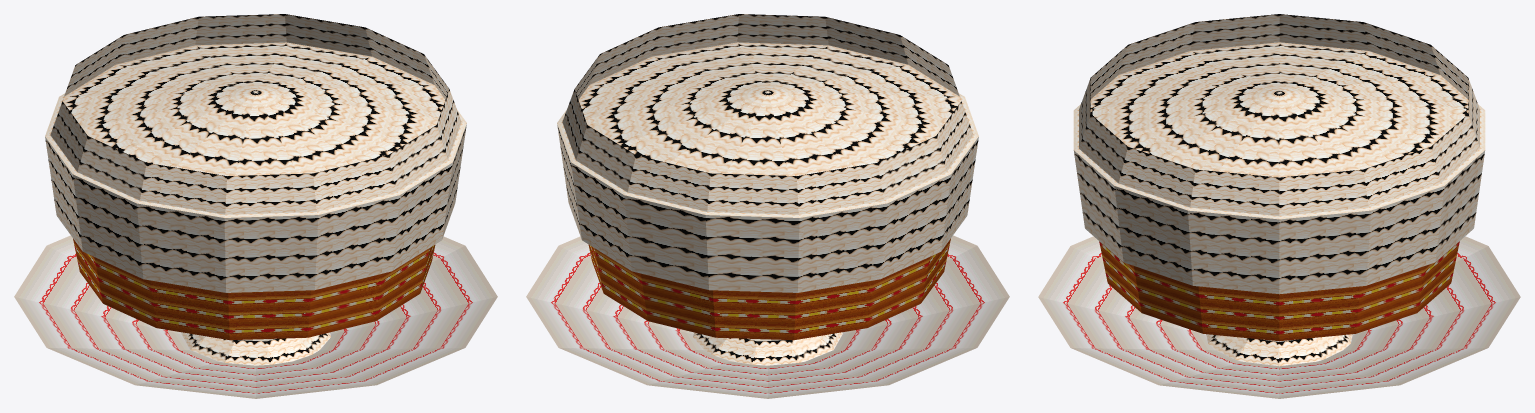
The model's file is magiccake.gltf.
The picture shows the model from 3 angles, left to right: view 1: azimuth 30°, elevation 25°; view 2: azimuth 150°, elevation 25°; view 3: azimuth 270°, elevation 25°; orthographic projection.
Parts seen in each view (by area): view 1: magiccake; view 2: magiccake; view 3: magiccake.
Part boxes in pixels (box(x1,y1,x2,y2)): magiccake: box(14, 14, 497, 398); magiccake: box(526, 14, 1009, 398); magiccake: box(1038, 14, 1520, 398).
Size of the model in its own units: 0.9893 by 0.5852 by 0.9893.
Materials: 3 (3 with a texture image).
